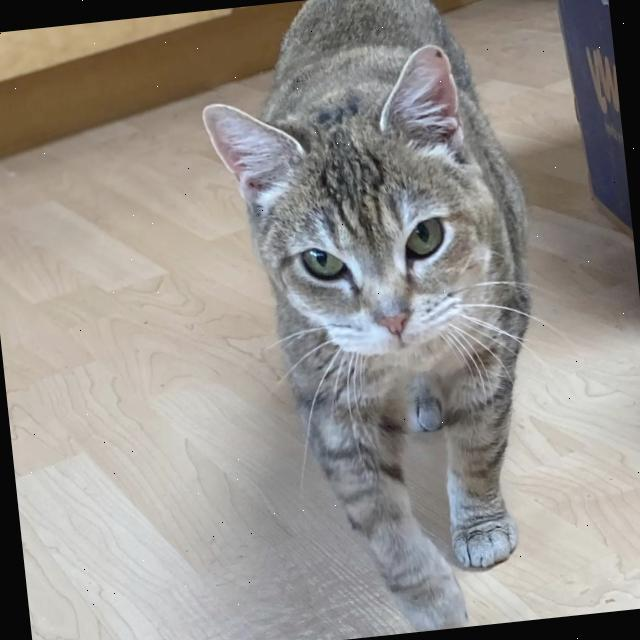american_shorthair_cat: (192, 34, 526, 408)
